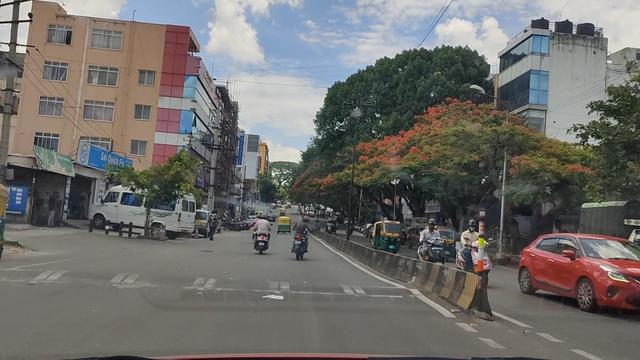SpeedBump: (5, 273, 432, 301)
